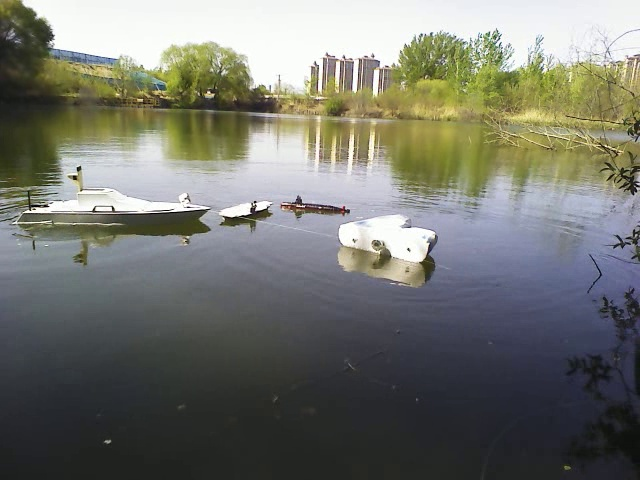aircraft_carrier: (221, 195, 276, 227)
boat: (11, 181, 210, 234)
iceberg: (340, 211, 438, 267)
submarine: (281, 195, 349, 219)
